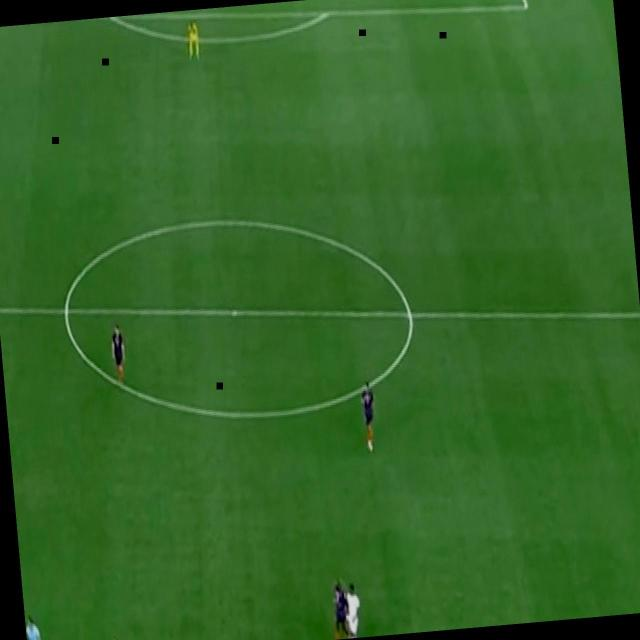player-white: (356, 372, 382, 456), (107, 316, 131, 392), (340, 576, 368, 640), (327, 577, 354, 640), (182, 14, 205, 66), (24, 610, 45, 640), (105, 633, 126, 640)
